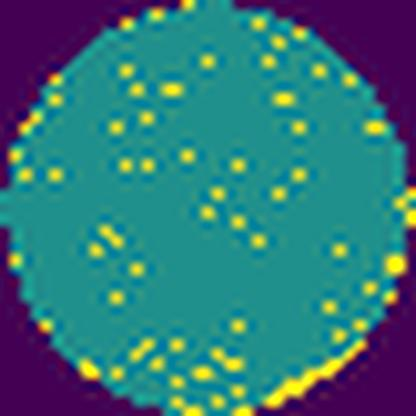Edge-Loc: (258, 333, 374, 416)
